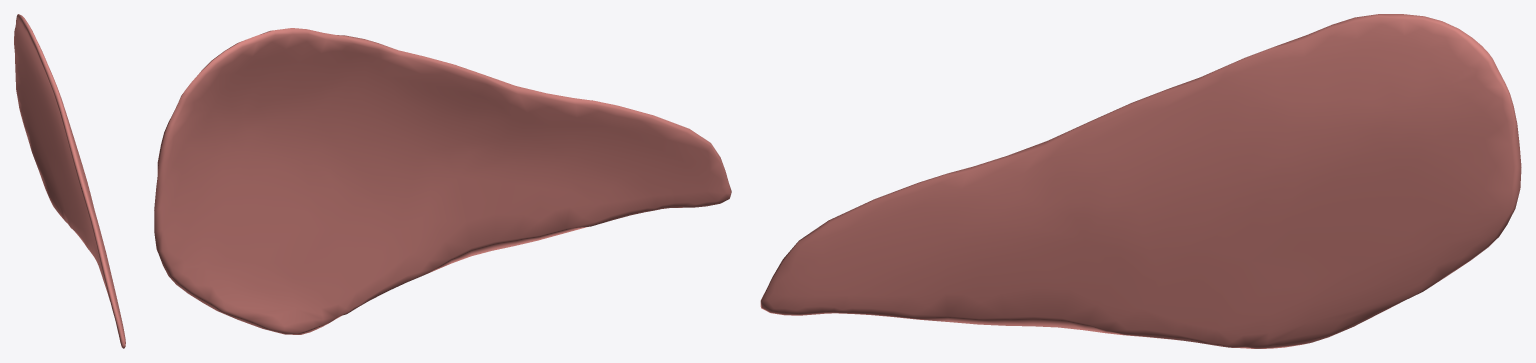
3 views of the same model, side by side, from view 1: azimuth 30°, elevation 25°; view 2: azimuth 150°, elevation 25°; view 3: azimuth 270°, elevation 25° (orthographic). The views are drawn at different scales.
Visible parts, largest first — view 1: ZA_915dd54773b0b8dd; view 2: ZA_915dd54773b0b8dd; view 3: ZA_915dd54773b0b8dd.
Boxes of the visible parts, x1,y1,x2,y2 form: ZA_915dd54773b0b8dd: (14,14,125,348); ZA_915dd54773b0b8dd: (154,28,731,334); ZA_915dd54773b0b8dd: (760,14,1521,348).
Bounding box in the file's own units: 0.00969 × 0.0188 × 0.0358.
